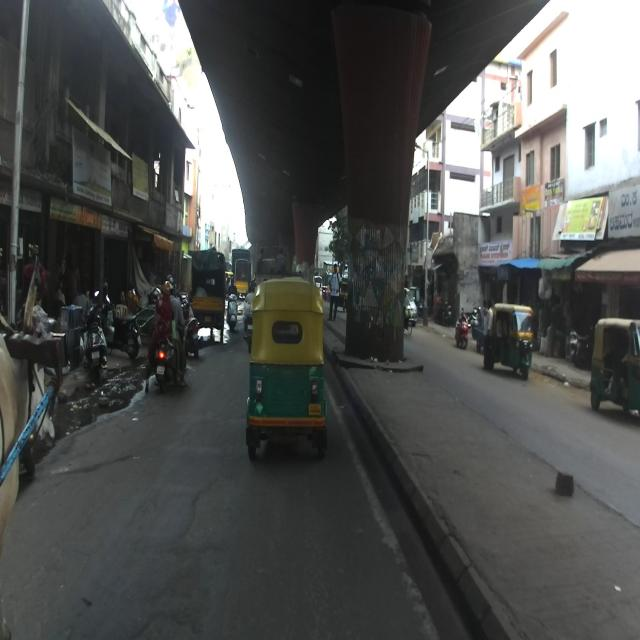autorickshaw: (245, 277, 328, 461), (589, 317, 639, 415), (492, 303, 533, 380), (225, 271, 234, 298)
car: (403, 287, 418, 328)
scooter: (101, 282, 141, 358), (152, 319, 189, 392), (80, 290, 107, 378), (178, 299, 200, 359), (570, 328, 596, 370), (454, 306, 468, 348)
